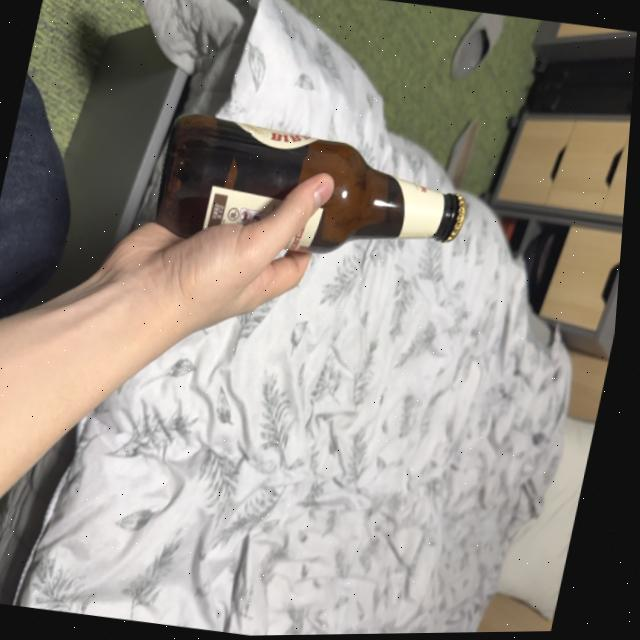beer: (141, 108, 490, 281)
